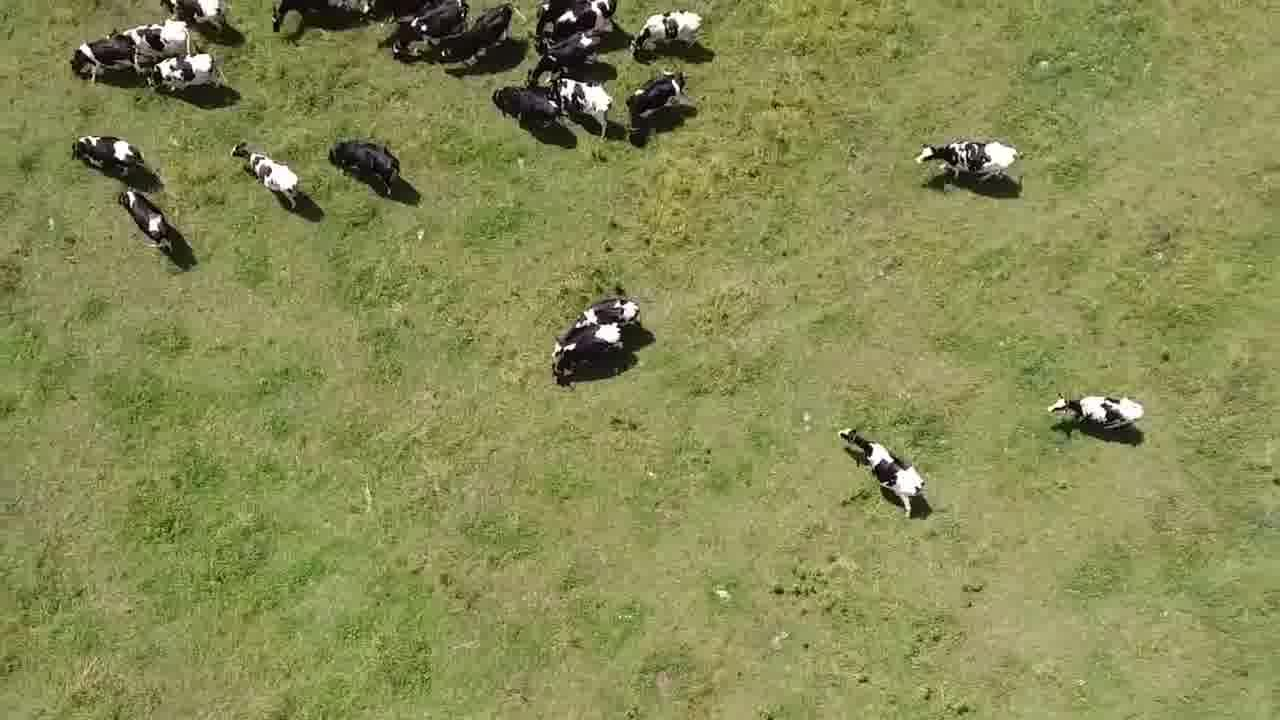cow: (838, 422, 930, 523), (912, 134, 1027, 191), (541, 290, 644, 352), (541, 69, 618, 146), (437, 0, 525, 66), (229, 138, 308, 210), (1046, 387, 1149, 442), (622, 68, 699, 139), (391, 0, 472, 66), (324, 137, 407, 199), (115, 187, 180, 257), (627, 7, 705, 64), (549, 334, 631, 388), (527, 28, 607, 82), (67, 129, 145, 179), (101, 21, 208, 57), (143, 49, 221, 98), (489, 81, 561, 132), (67, 30, 144, 76), (160, 0, 234, 41), (552, 0, 620, 38), (267, 0, 330, 38), (357, 0, 435, 26), (531, 0, 571, 49)
